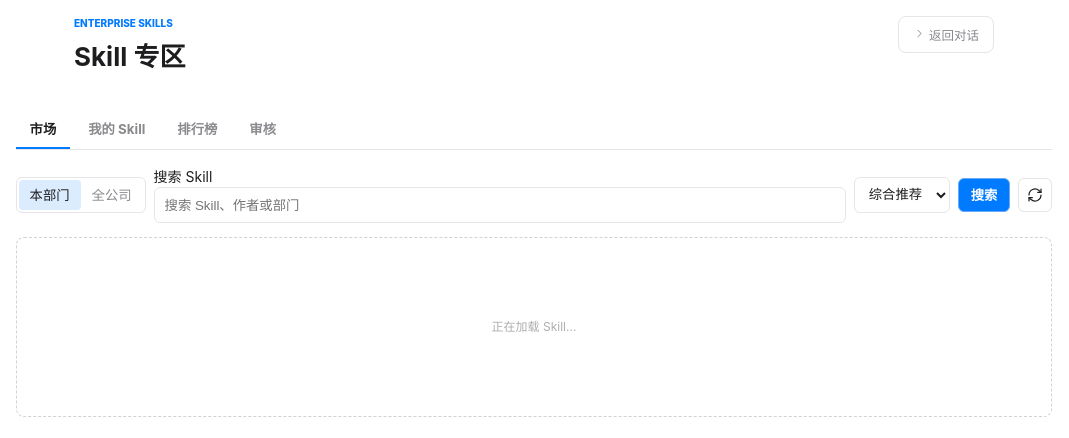
Scenario: SkillZonePage › 将本机 Skill 投稿接入审核，并仅向管理员展示审核入口
Click the button "我的 Skill": (117, 129) top-left (74, 110), bottom-right (159, 149)
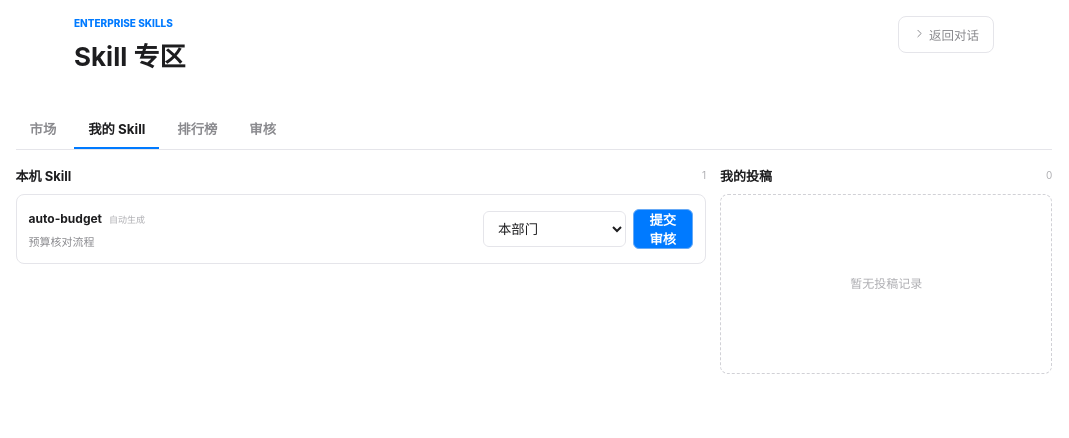
Result: the text "预算核对流程" is shown at top-left (29, 235), bottom-right (95, 249)
Click the button "提交审核": (663, 229) top-left (633, 209), bottom-right (693, 249)
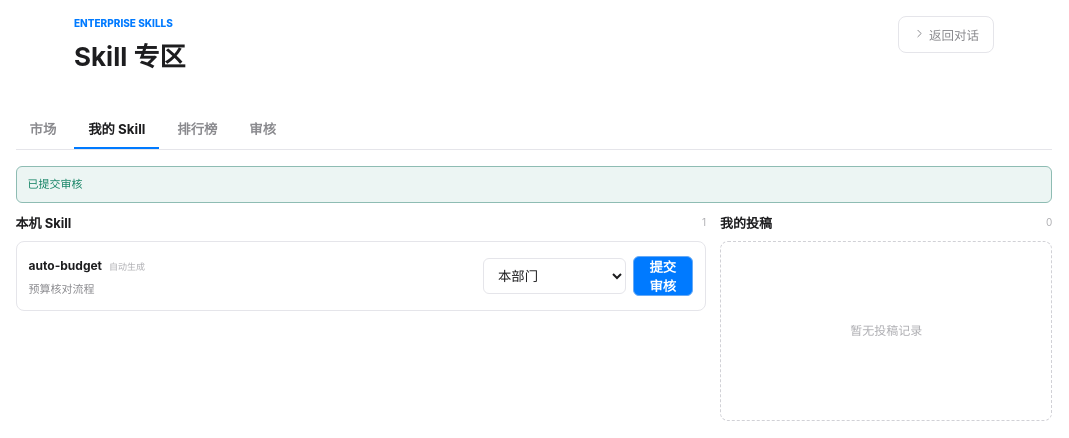
Result: the message reads "已提交审核" at top-left (28, 177), bottom-right (83, 191)
Click the button "审核": (263, 129) top-left (235, 110), bottom-right (290, 149)
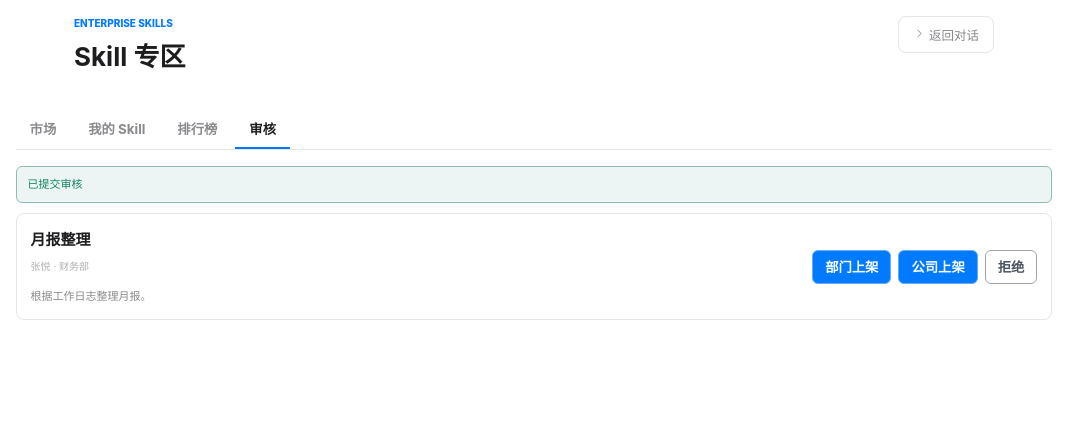
Result: the button "公司上架" is shown
Click the button "公司上架": (938, 267) top-left (898, 250), bottom-right (978, 284)
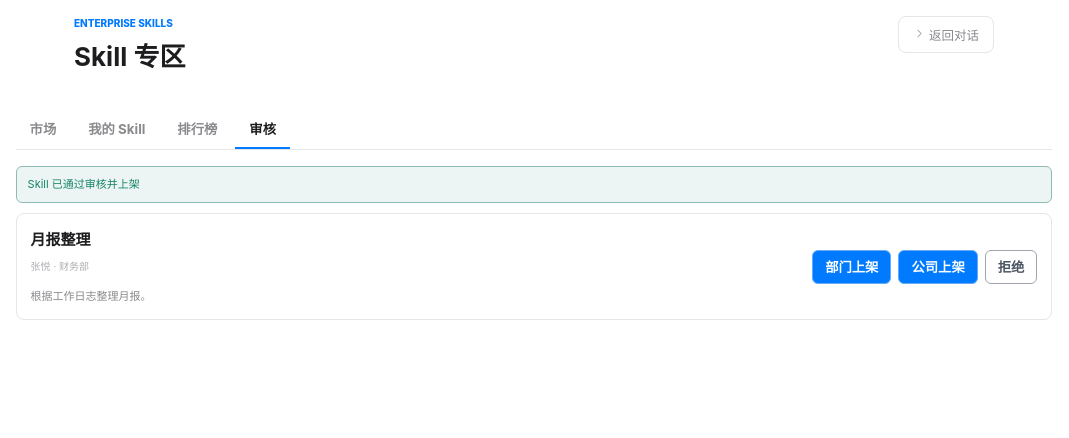
Result: the message reads "Skill 已通过审核并上架" at top-left (28, 177), bottom-right (140, 191)
